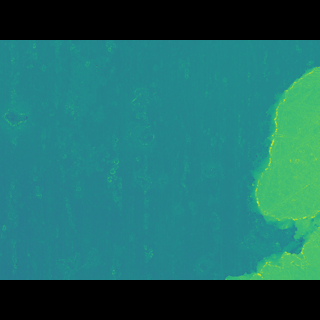Loch: (243, 84, 320, 248)
